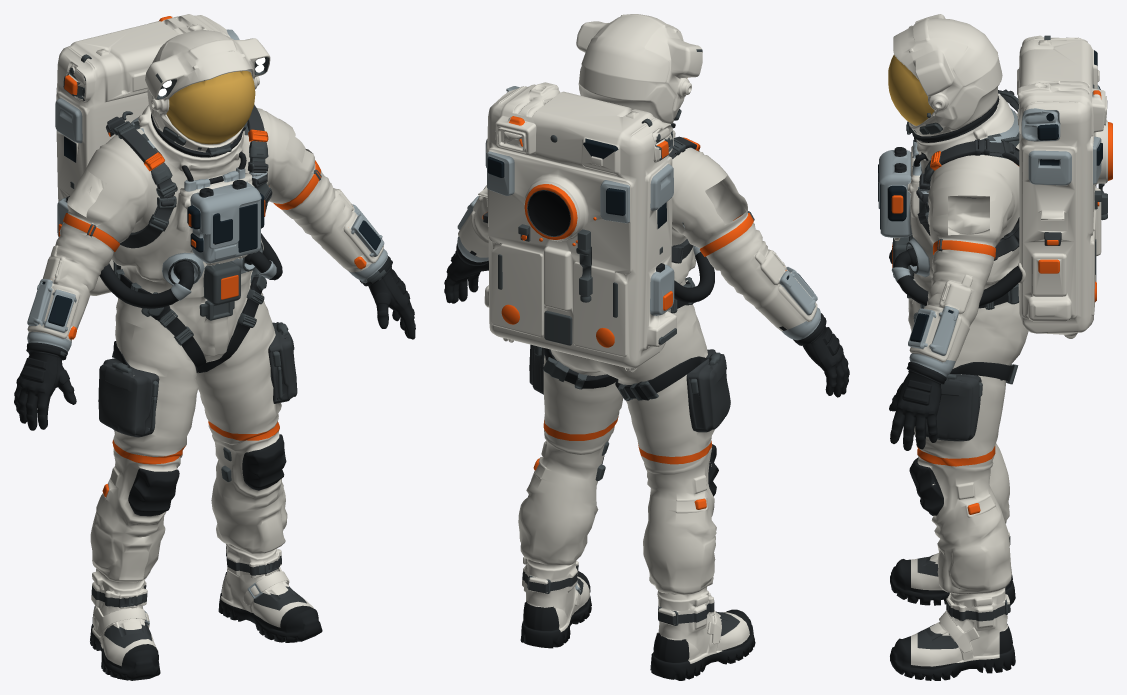
File: astronaut-unbranded.glb
3 renders of one model, left to right at view 1: azimuth 30°, elevation 25°; view 2: azimuth 150°, elevation 25°; view 3: azimuth 270°, elevation 25°, orthographic.
Visible parts, largest first — view 1: Astronaut_|_Original_mesh_-_assigned_materials_01_|_Suit_-_w, Astronaut_|_Original_mesh_-_assigned_materials_04_|_Rubber_-, Astronaut_|_Original_mesh_-_assigned_materials_02_|_Shell_-_, Astronaut_|_Original_mesh_-_assigned_materials002_02_|_Shell, Astronaut_|_Original_mesh_-_assigned_materials_05_|_Harness_, Astronaut_|_Original_mesh_-_assigned_materials_06_|_Hardware, Astronaut_|_Original_mesh_-_assigned_materials_13_|_Gunmetal, Astronaut_|_Original_mesh_-_assigned_materials_07_|_Visor_-_, Astronaut_|_Original_mesh_-_assigned_materials_03_|_Safety_o, Astronaut_|_Original_mesh_-_assigned_materials_08_|_Displays, Astronaut_|_Original_mesh_-_assigned_materials002_06_|_Hardw; view 2: Astronaut_|_Original_mesh_-_assigned_materials_01_|_Suit_-_w, Astronaut_|_Original_mesh_-_assigned_materials002_02_|_Shell, Astronaut_|_Original_mesh_-_assigned_materials_02_|_Shell_-_, Astronaut_|_Original_mesh_-_assigned_materials_04_|_Rubber_-, Astronaut_|_Original_mesh_-_assigned_materials_05_|_Harness_, Astronaut_|_Original_mesh_-_assigned_materials002_06_|_Hardw, Astronaut_|_Original_mesh_-_assigned_materials002_13_|_Gunme, Astronaut_|_Original_mesh_-_assigned_materials_06_|_Hardware, Astronaut_|_Original_mesh_-_assigned_materials_03_|_Safety_o, Astronaut_|_Original_mesh_-_assigned_materials_13_|_Gunmetal, Astronaut_|_Original_mesh_-_assigned_materials002_03_|_Safet, Astronaut_|_Original_mesh_-_assigned_materials002_14_|_Reces (+1 smaller); view 3: Astronaut_|_Original_mesh_-_assigned_materials_01_|_Suit_-_w, Astronaut_|_Original_mesh_-_assigned_materials002_02_|_Shell, Astronaut_|_Original_mesh_-_assigned_materials_02_|_Shell_-_, Astronaut_|_Original_mesh_-_assigned_materials_04_|_Rubber_-, Astronaut_|_Original_mesh_-_assigned_materials_05_|_Harness_, Astronaut_|_Original_mesh_-_assigned_materials_06_|_Hardware, Astronaut_|_Original_mesh_-_assigned_materials002_06_|_Hardw, Astronaut_|_Original_mesh_-_assigned_materials_13_|_Gunmetal, Astronaut_|_Original_mesh_-_assigned_materials_07_|_Visor_-_, Astronaut_|_Original_mesh_-_assigned_materials_03_|_Safety_o, Astronaut_|_Original_mesh_-_assigned_materials_08_|_Displays, Astronaut_|_Original_mesh_-_assigned_materials002_03_|_Safet (+2 smaller).
Part boxes in pixels (x1,y1,x2,y2): Astronaut_|_Original_mesh_-_assigned_materials_01_|_Suit_-_w: [27, 108, 383, 626]; Astronaut_|_Original_mesh_-_assigned_materials_04_|_Rubber_-: [14, 113, 415, 680]; Astronaut_|_Original_mesh_-_assigned_materials_02_|_Shell_-_: [91, 30, 313, 666]; Astronaut_|_Original_mesh_-_assigned_materials002_02_|_Shell: [56, 14, 230, 295]; Astronaut_|_Original_mesh_-_assigned_materials_05_|_Harness_: [91, 105, 306, 648]; Astronaut_|_Original_mesh_-_assigned_materials_06_|_Hardware: [27, 117, 387, 625]; Astronaut_|_Original_mesh_-_assigned_materials_13_|_Gunmetal: [60, 57, 386, 605]; Astronaut_|_Original_mesh_-_assigned_materials_07_|_Visor_-_: [166, 71, 255, 144]; Astronaut_|_Original_mesh_-_assigned_materials_03_|_Safety_o: [63, 129, 366, 497]; Astronaut_|_Original_mesh_-_assigned_materials_08_|_Displays: [42, 193, 380, 326]; Astronaut_|_Original_mesh_-_assigned_materials002_06_|_Hardw: [55, 29, 239, 237]; Astronaut_|_Original_mesh_-_assigned_materials_01_|_Suit_-_w: [458, 147, 817, 600]; Astronaut_|_Original_mesh_-_assigned_materials002_02_|_Shell: [478, 82, 676, 372]; Astronaut_|_Original_mesh_-_assigned_materials_02_|_Shell_-_: [522, 14, 749, 663]; Astronaut_|_Original_mesh_-_assigned_materials_04_|_Rubber_-: [444, 123, 849, 680]; Astronaut_|_Original_mesh_-_assigned_materials_05_|_Harness_: [522, 136, 739, 636]; Astronaut_|_Original_mesh_-_assigned_materials002_06_|_Hardw: [485, 86, 674, 315]; Astronaut_|_Original_mesh_-_assigned_materials002_13_|_Gunme: [498, 118, 676, 345]; Astronaut_|_Original_mesh_-_assigned_materials_06_|_Hardware: [457, 196, 820, 593]; Astronaut_|_Original_mesh_-_assigned_materials_03_|_Safety_o: [533, 137, 786, 509]; Astronaut_|_Original_mesh_-_assigned_materials_13_|_Gunmetal: [527, 49, 754, 625]; Astronaut_|_Original_mesh_-_assigned_materials002_03_|_Safet: [482, 116, 672, 347]; Astronaut_|_Original_mesh_-_assigned_materials002_14_|_Reces: [528, 190, 570, 236]; Astronaut_|_Original_mesh_-_assigned_materials_01_|_Suit_-_w: [894, 112, 1028, 598]; Astronaut_|_Original_mesh_-_assigned_materials002_02_|_Shell: [1017, 35, 1107, 338]; Astronaut_|_Original_mesh_-_assigned_materials_02_|_Shell_-_: [878, 14, 1014, 666]; Astronaut_|_Original_mesh_-_assigned_materials_04_|_Rubber_-: [889, 96, 1022, 680]; Astronaut_|_Original_mesh_-_assigned_materials_05_|_Harness_: [916, 89, 1019, 649]; Astronaut_|_Original_mesh_-_assigned_materials_06_|_Hardware: [878, 108, 1018, 376]; Astronaut_|_Original_mesh_-_assigned_materials002_06_|_Hardw: [1021, 85, 1101, 185]; Astronaut_|_Original_mesh_-_assigned_materials_13_|_Gunmetal: [893, 91, 1019, 614]; Astronaut_|_Original_mesh_-_assigned_materials_07_|_Visor_-_: [888, 55, 934, 125]; Astronaut_|_Original_mesh_-_assigned_materials_03_|_Safety_o: [891, 151, 1018, 514]; Astronaut_|_Original_mesh_-_assigned_materials_08_|_Displays: [878, 164, 953, 342]; Astronaut_|_Original_mesh_-_assigned_materials002_03_|_Safet: [1038, 90, 1112, 301].
Size of the model in its own units: 0.6704 by 0.9995 by 0.3501.
